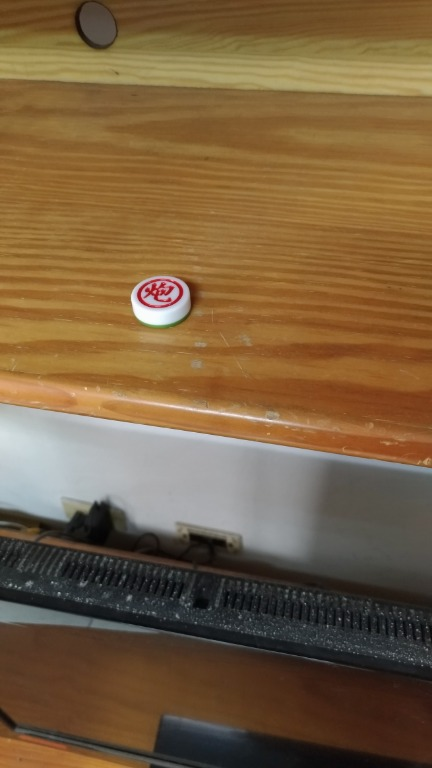r-cannon: (125, 265, 209, 339)
